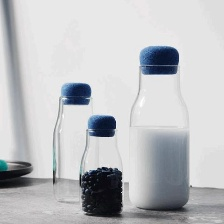bottle: (128, 59, 196, 211), (46, 90, 94, 205), (74, 126, 126, 220)
